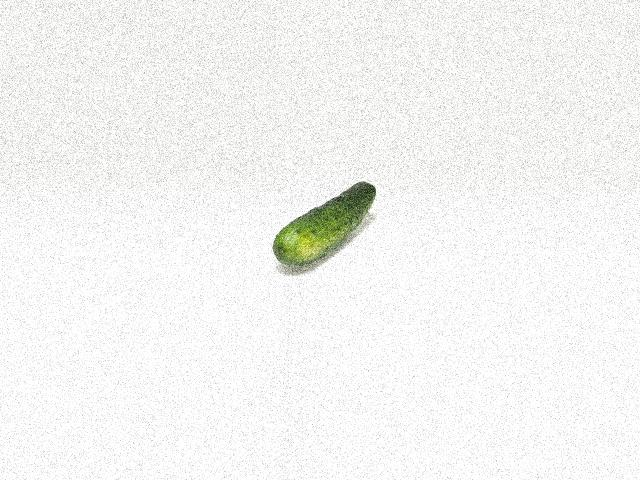cucumber: (273, 182, 376, 264)
